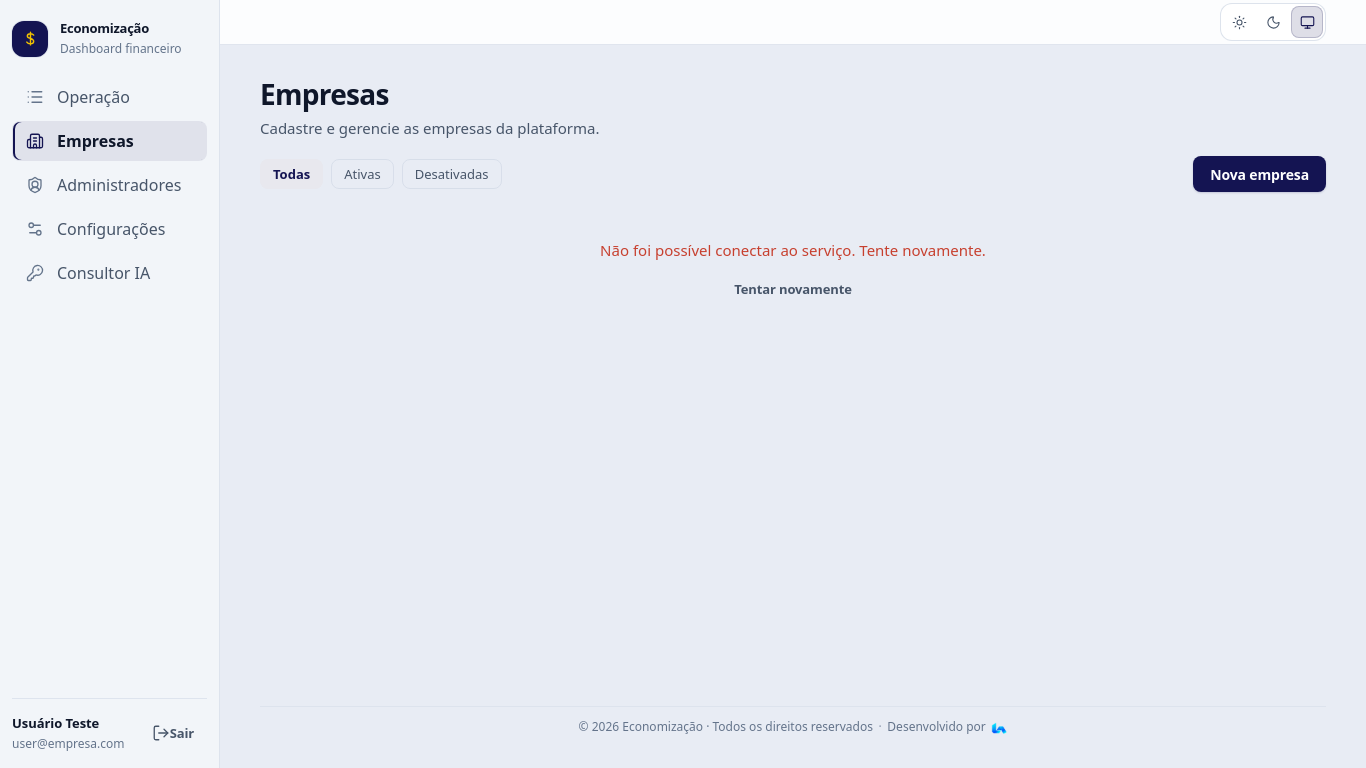
UI administrativa de Empresas (1.2D) › listagem › mostra erro e permite retry
Expected: the text "Não foi possível conectar ao serviço. Tente novamente." is shown, [600,240,986,262]
Click the button "Tentar novamente" at (793, 289), box [721,274,865,304]
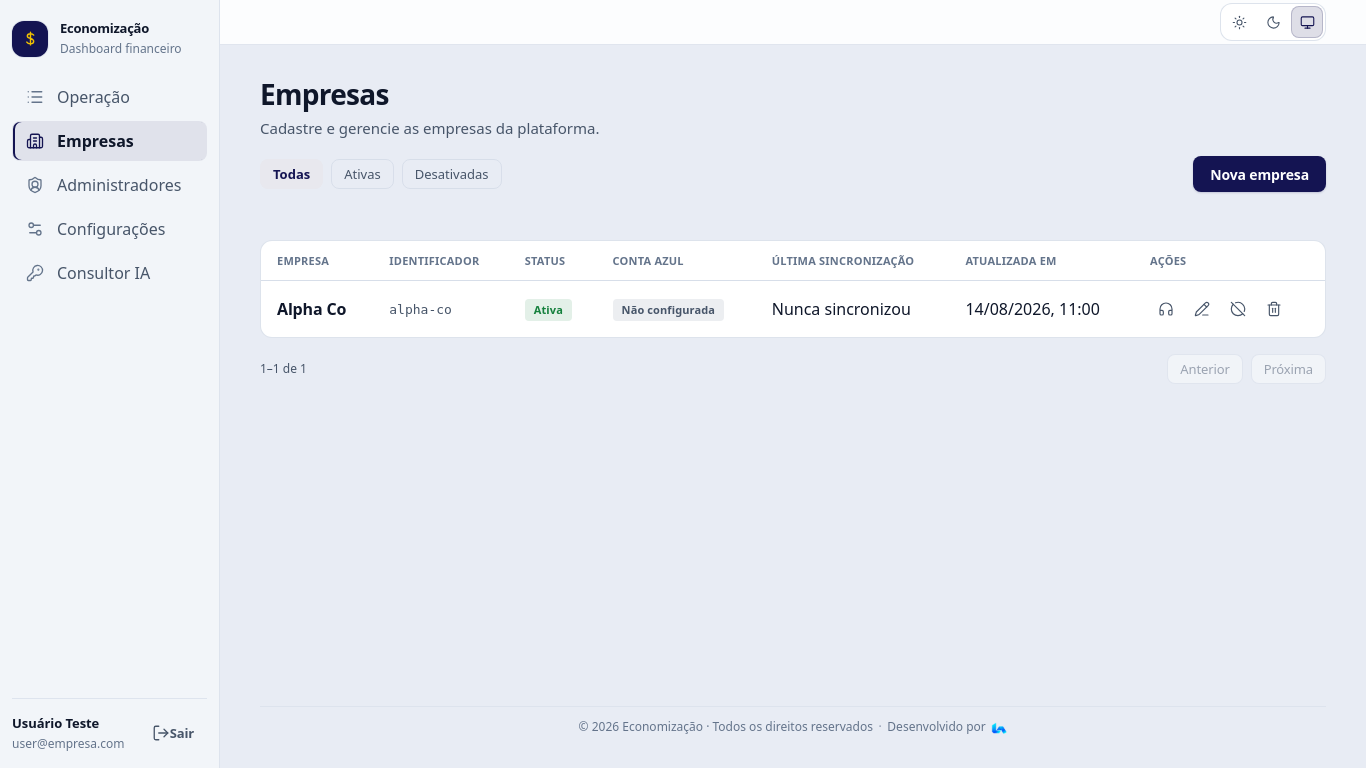
Expected: the text "Alpha Co" is shown, [261,281,373,337]
